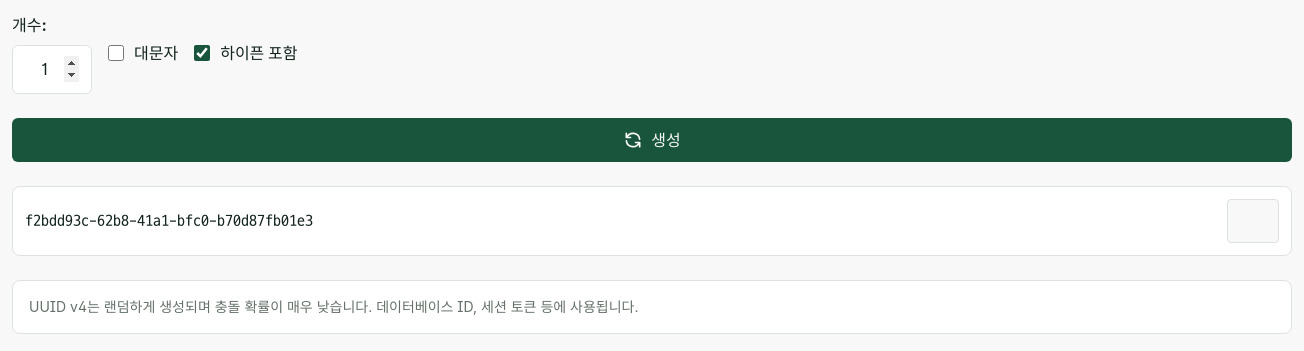
it: UuidGenerator › normalizes the count to the supported minimum and maximum on blur
Replace the text in the number field labelled "개수:" with "0" at point(52, 70), box [12,45,92,94]
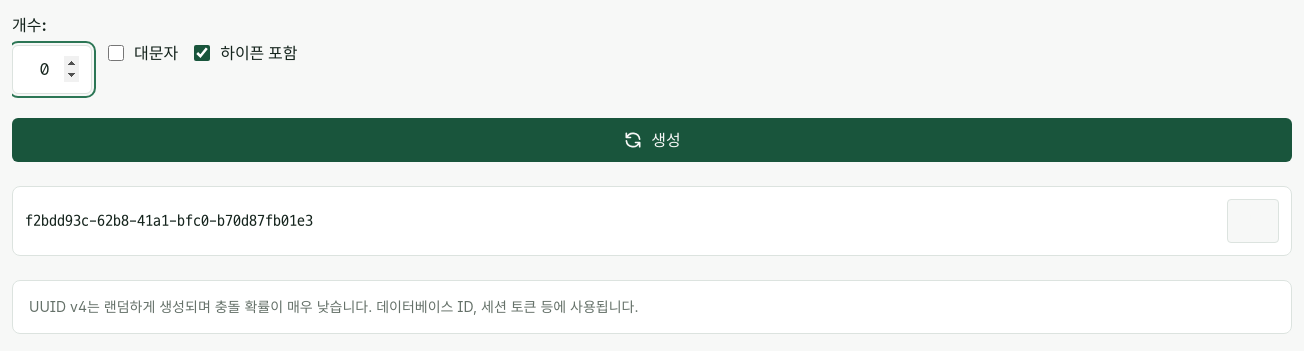
Press Tab
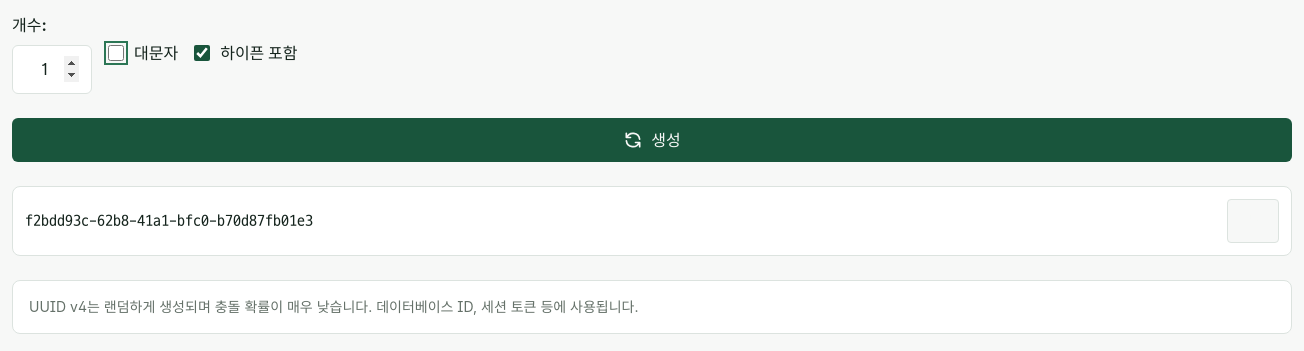
Expected: the number field labelled "개수:" holds "1"
Replace the text in the number field labelled "개수:" with "101" at point(52, 70), box [12,45,92,94]
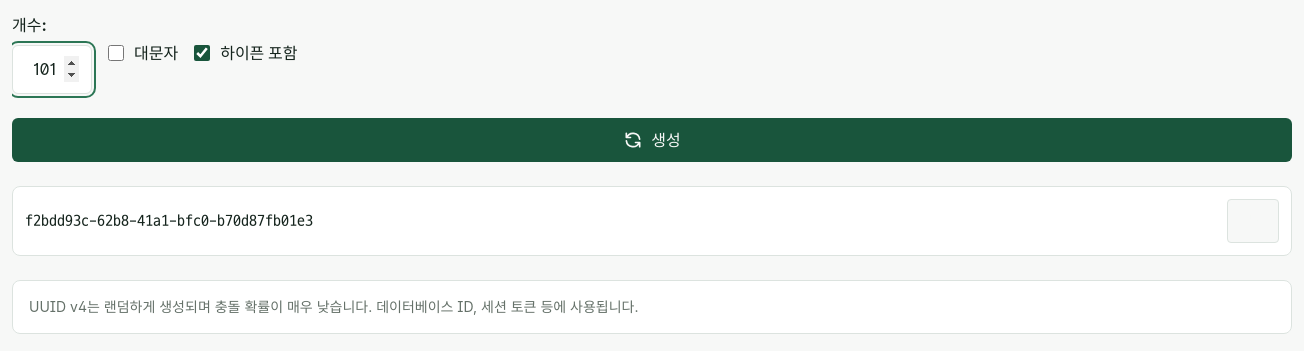
Press Tab
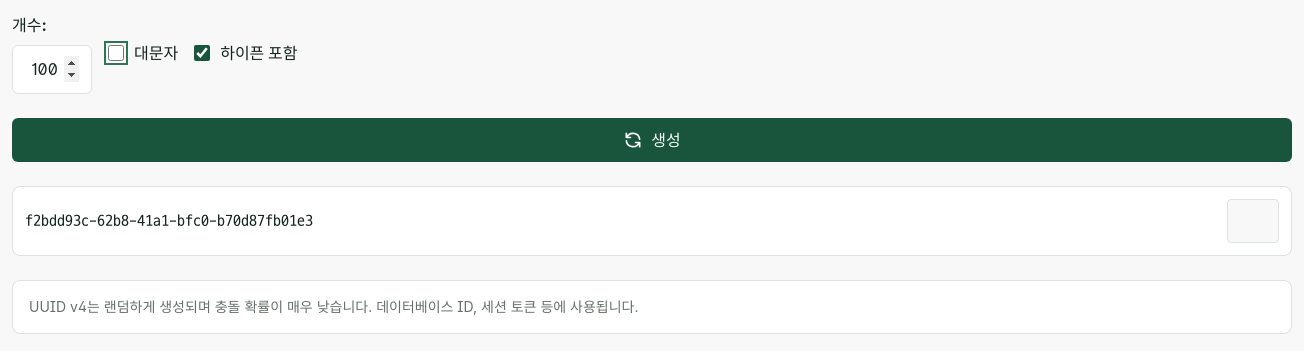
Expected: the number field labelled "개수:" holds "100", [12,45,92,94]
